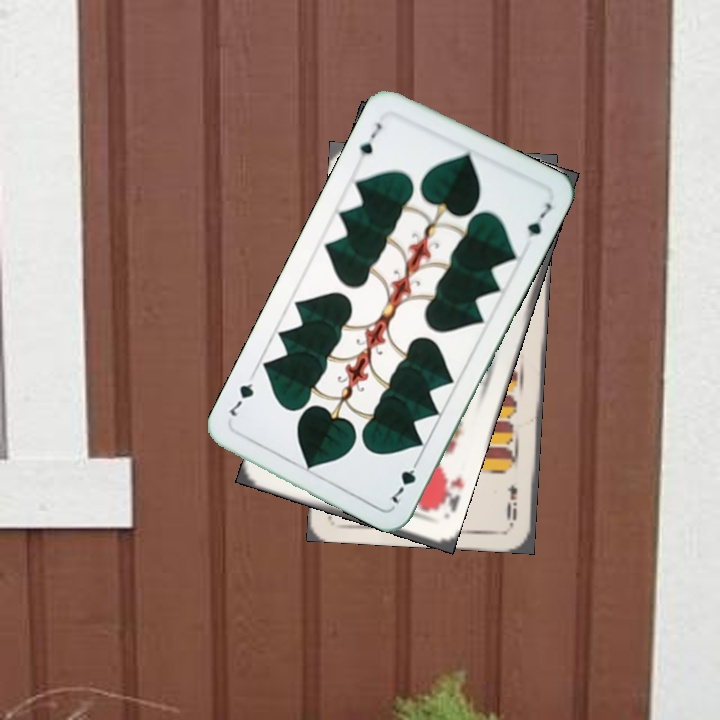E9: (502, 480, 520, 527)
G7: (387, 453, 423, 507), (355, 117, 384, 159)
HK: (430, 469, 466, 515)
